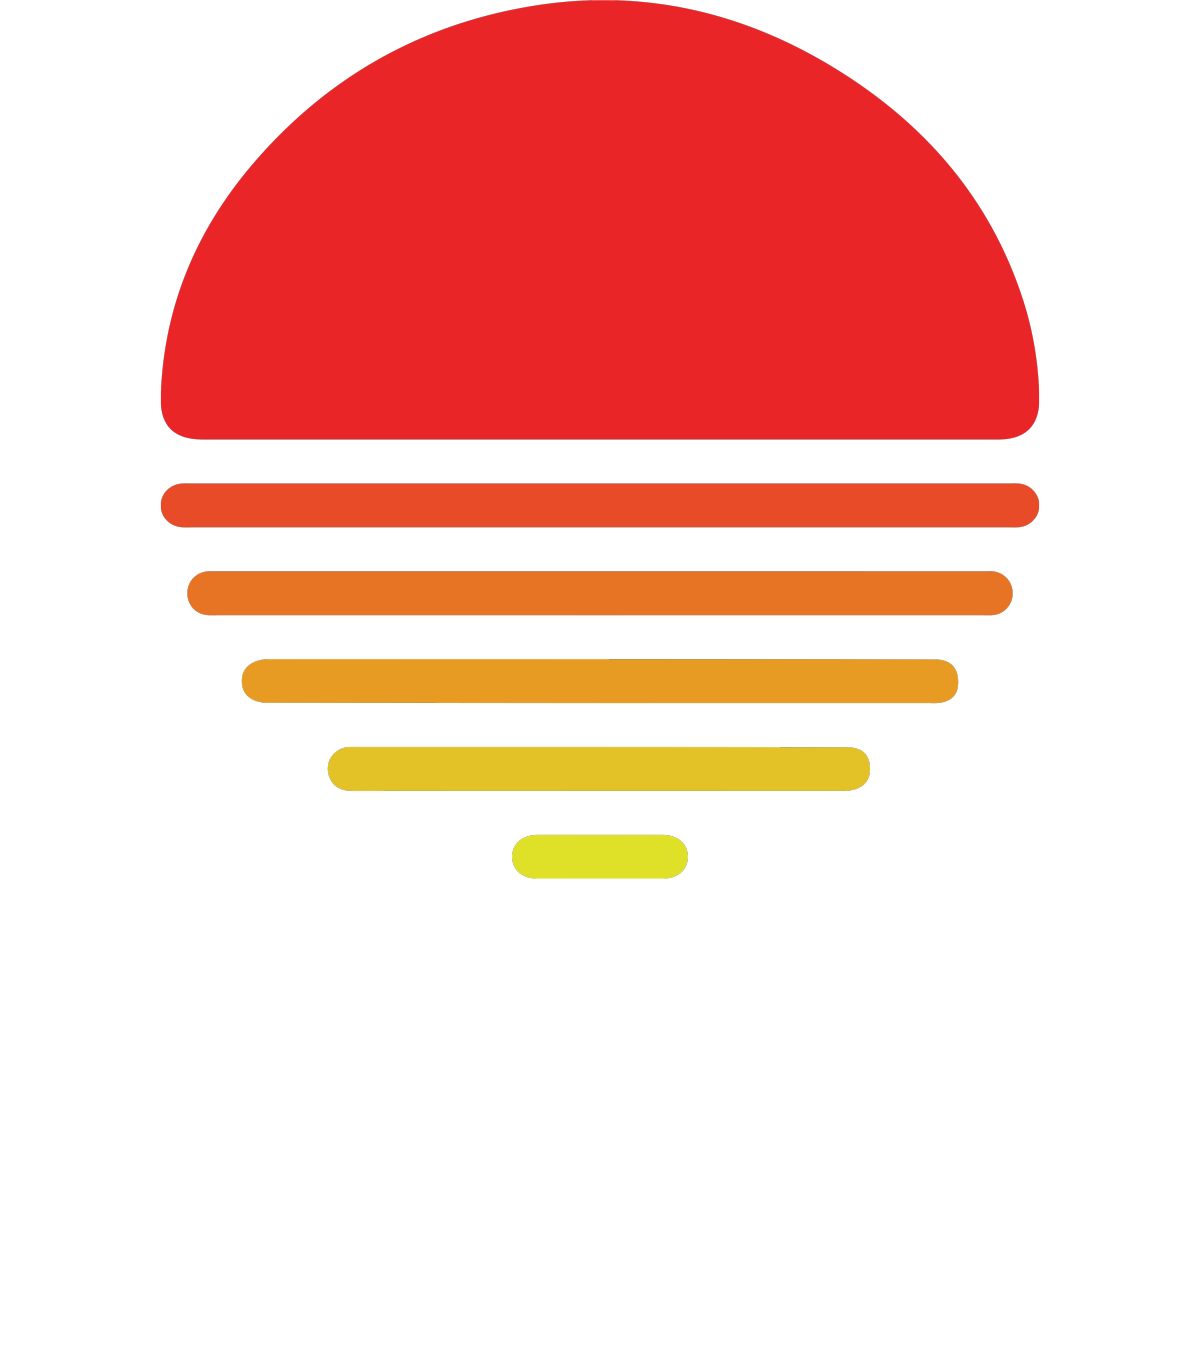design: (149, 1, 1061, 909)
